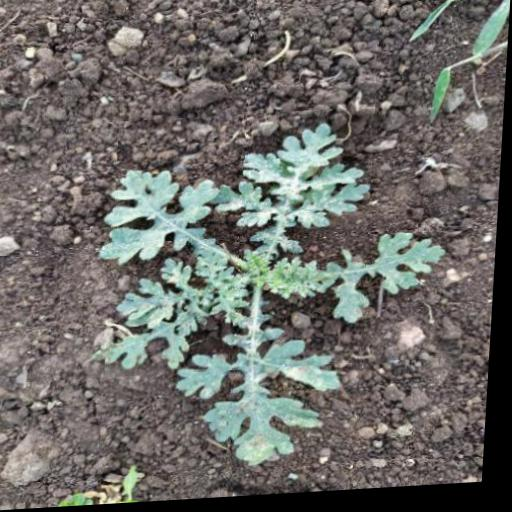weed: (91, 123, 462, 472)
